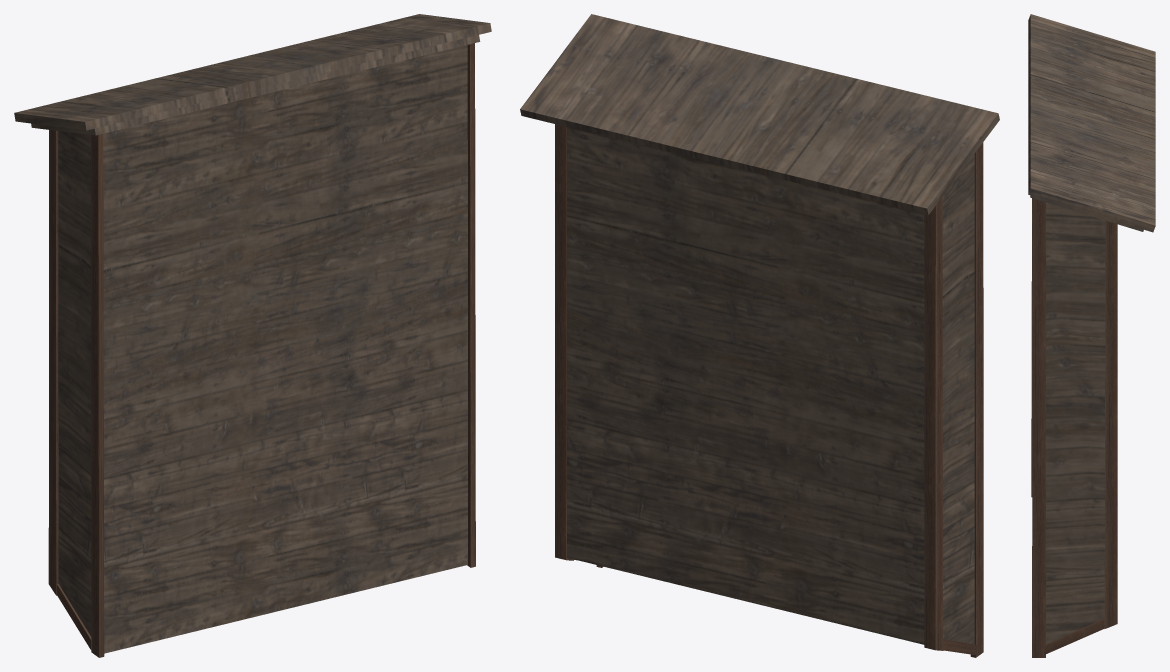
File: jovhouse_window05b.fbx
3 renders of one model, left to right at view 1: azimuth 30°, elevation 25°; view 2: azimuth 150°, elevation 25°; view 3: azimuth 270°, elevation 25°, orthographic. The views are drawn at different scales.
Visible parts, largest first — view 1: jovhouse_window05b; view 2: jovhouse_window05b; view 3: jovhouse_window05b.
Part boxes in pixels (bbox=[...]): jovhouse_window05b: bbox=[14, 14, 491, 657]; jovhouse_window05b: bbox=[520, 14, 999, 657]; jovhouse_window05b: bbox=[1028, 14, 1155, 657].
Bounding box in the file's own units: 200 × 255 × 61.98.
